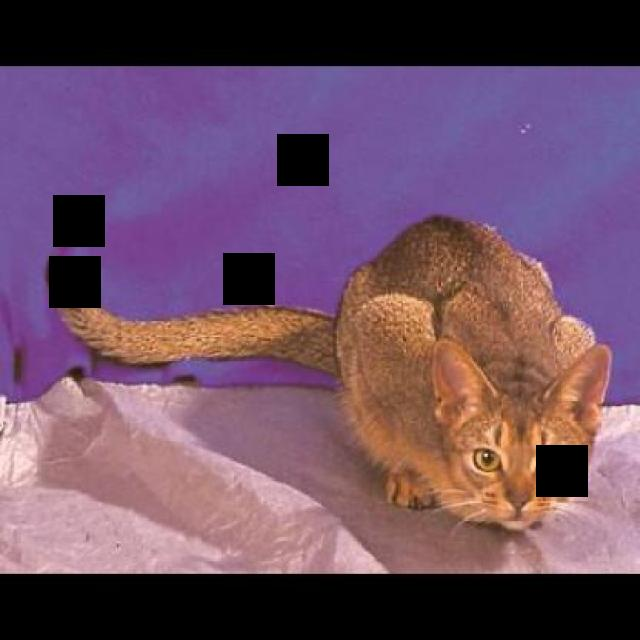unauthorized: (43, 212, 612, 536)
